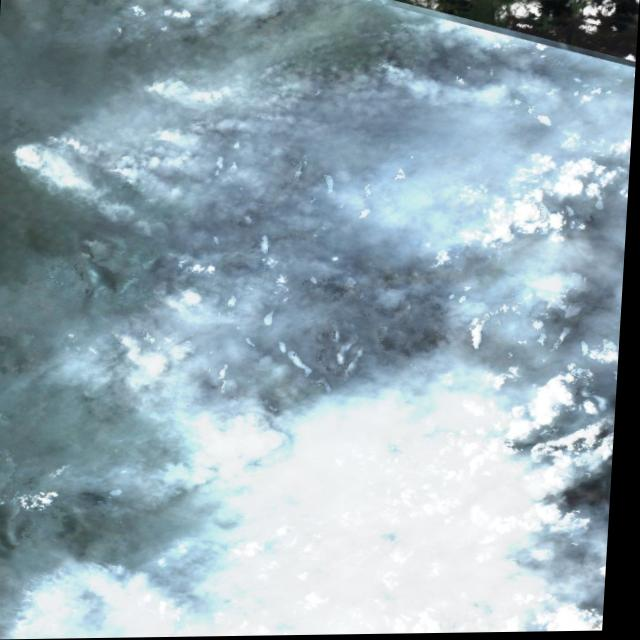fire: (134, 76, 169, 97), (137, 127, 167, 141), (96, 164, 126, 177)
